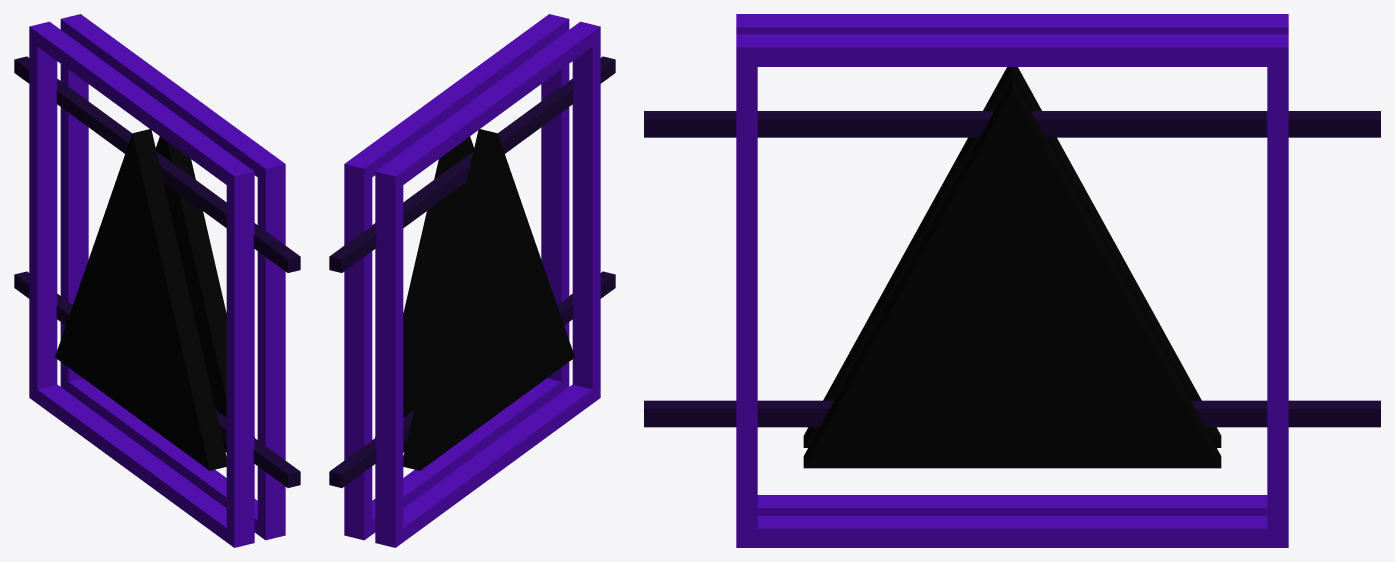
File: Obstacle2.fbx
3 views of the same model, side by side, from view 1: azimuth 30°, elevation 25°; view 2: azimuth 150°, elevation 25°; view 3: azimuth 270°, elevation 25° (orthographic). The views are drawn at different scales.
Parts seen in each view (by area): view 1: Cube.011; view 2: Cube.011; view 3: Cube.011.
Boxes of the visible parts, x1,y1,x2,y2 form: Cube.011: (14,14,300,547); Cube.011: (329,14,615,547); Cube.011: (644,14,1380,547).
Bounding box in the file's own units: 200 × 1387 × 1851.
